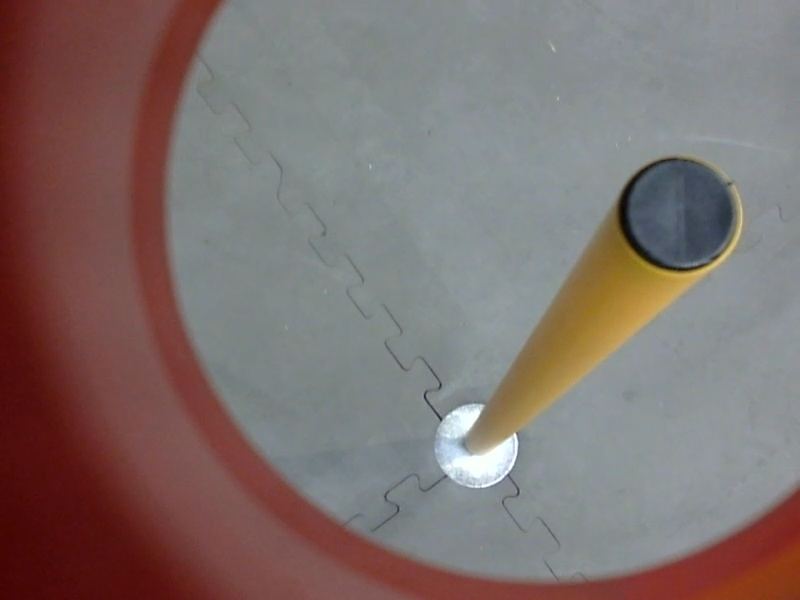tip: (610, 146, 750, 283)
